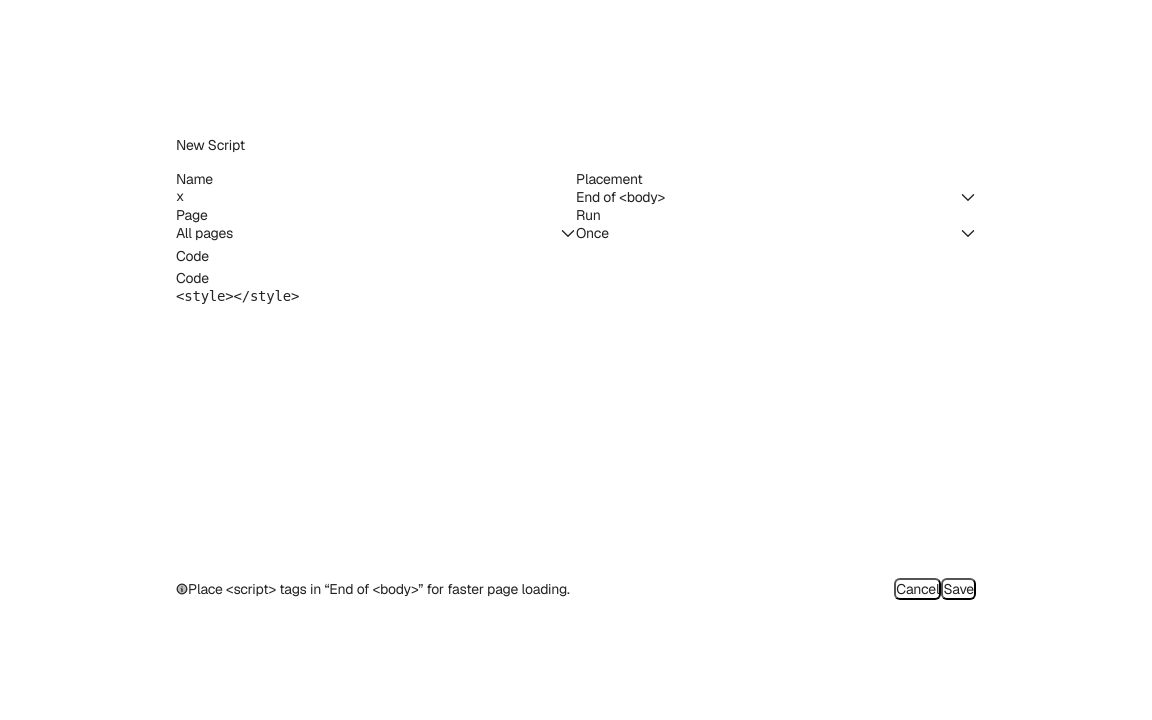
it: ScriptDialog › affiche l’erreur du serveur et garde la fenêtre ouverte
Click the button "Save" at (959, 589), box [941,578,976,600]
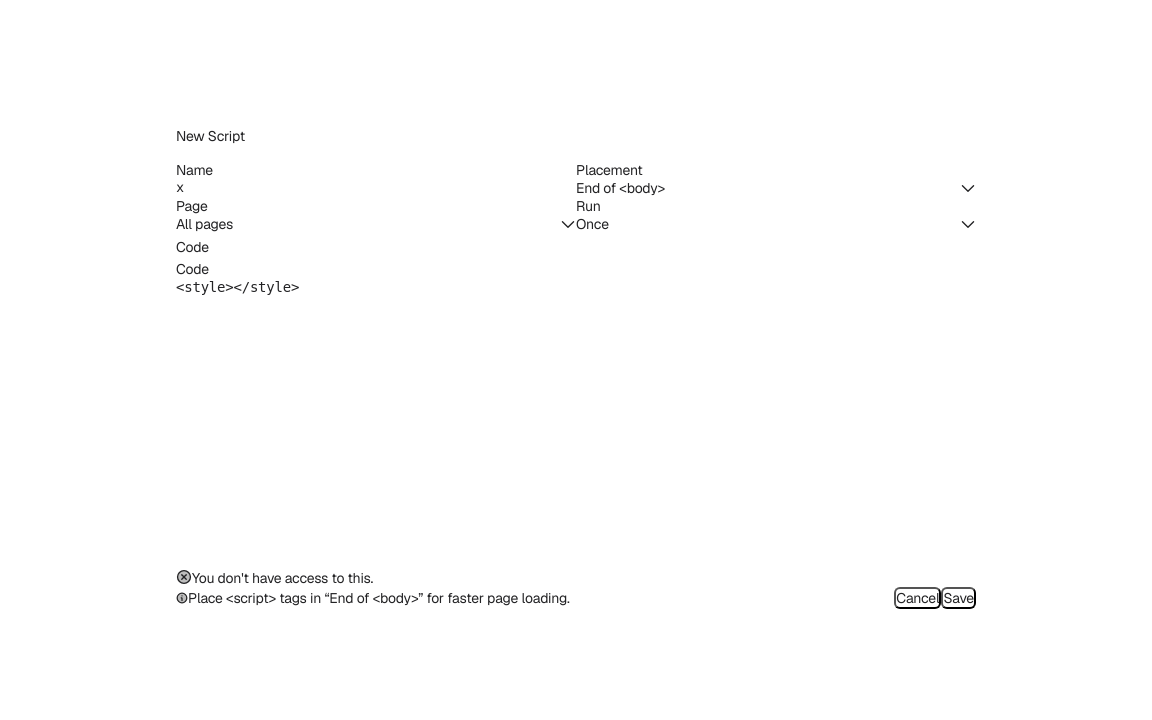
Expected: the dialog is shown, [176,111,976,609]
Expected: the message reads "You don't have access to this.", [192,569,373,587]
